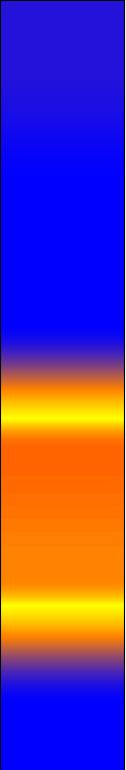Thermal Runaway: (4, 429, 121, 586), (6, 591, 119, 639), (6, 385, 121, 421)
critical: (11, 366, 118, 383), (11, 646, 120, 659)
safe: (7, 8, 120, 361), (9, 666, 119, 761)
